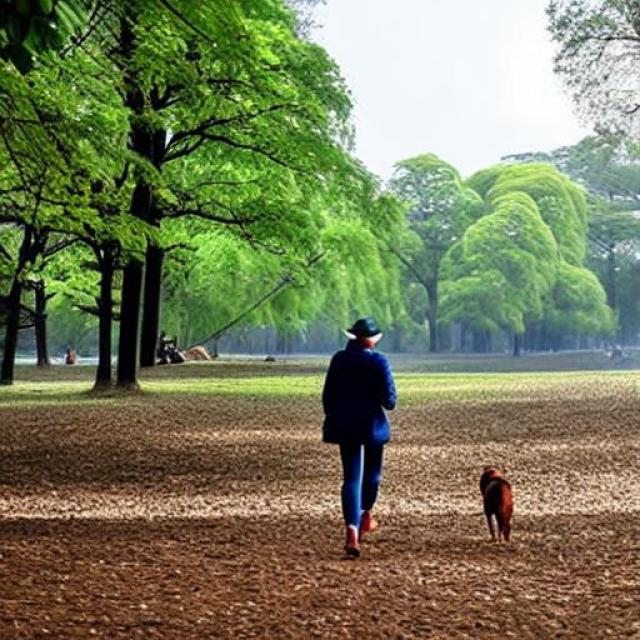Unleashed_Dog: (331, 408, 515, 546)
